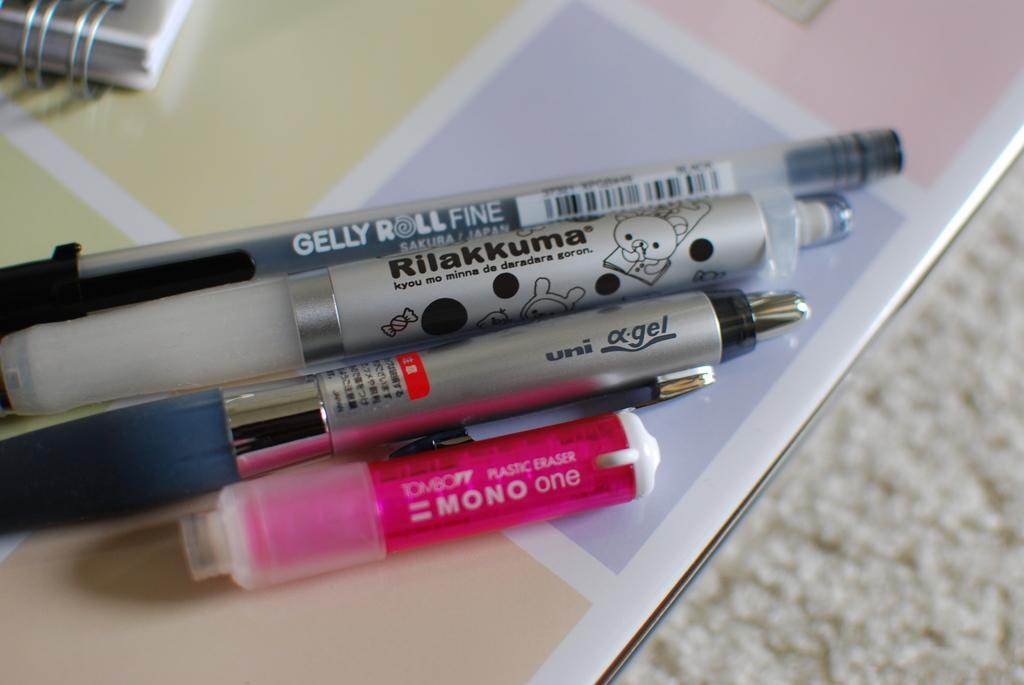pen: (0, 287, 811, 542), (0, 193, 858, 421), (0, 123, 902, 333)
